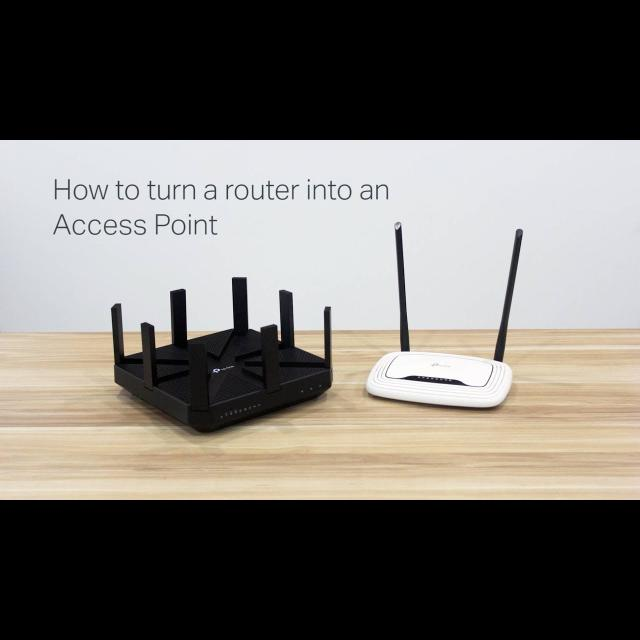Router: (112, 278, 333, 433), (365, 222, 524, 410)
